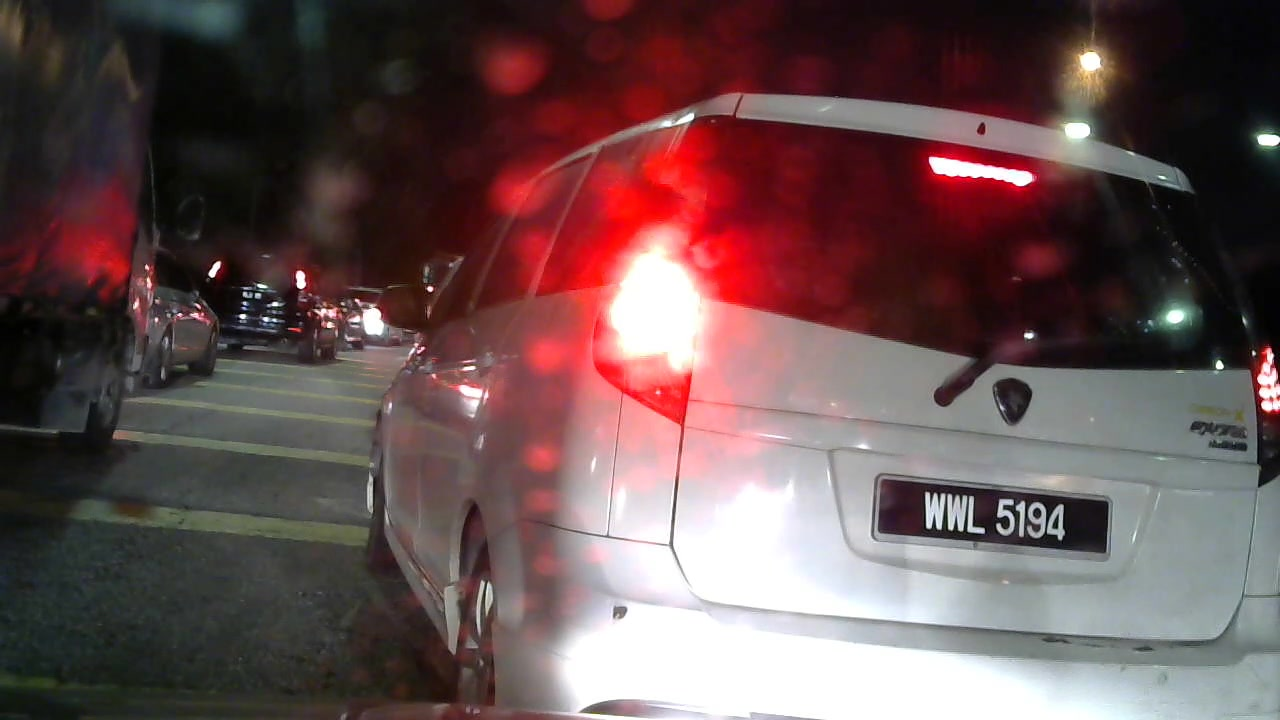Car: (287, 110, 1279, 683), (115, 251, 243, 389), (224, 251, 352, 359), (330, 278, 404, 346)
